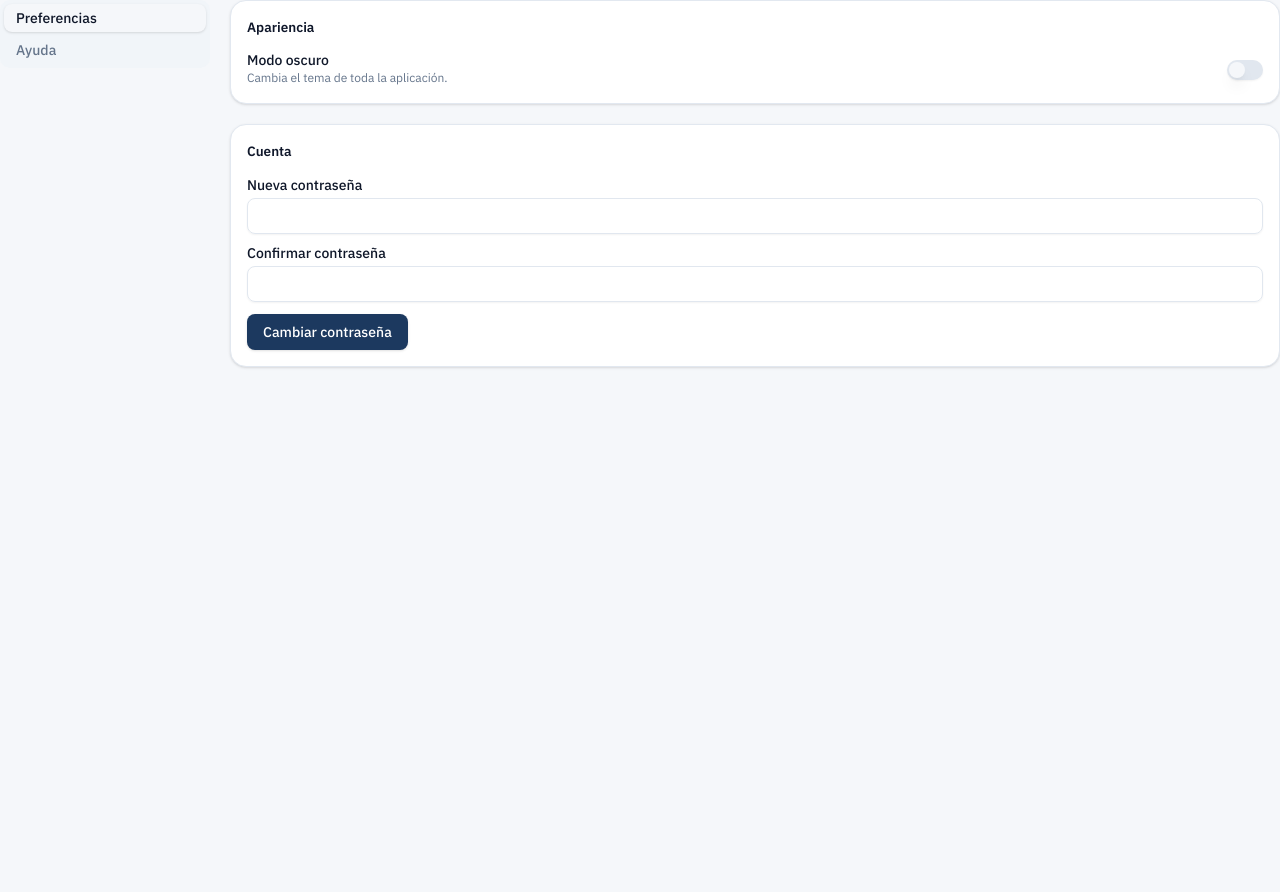
Test case: ConfigView › kam: la pestaña Ayuda le da los cuatro contactos de escalada
Press the mouse on the tab "Ayuda": (105, 50) [4,36,206,64]
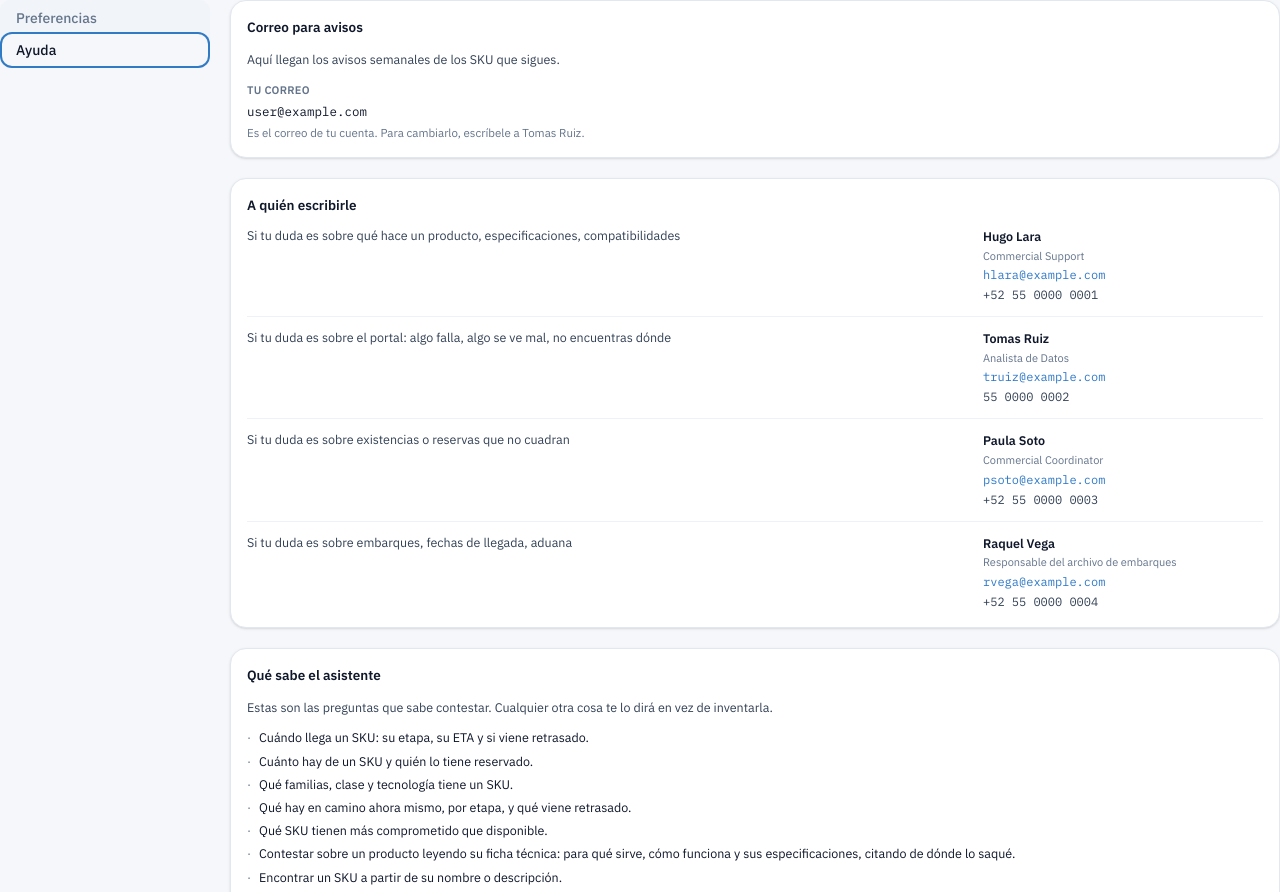
Now the text "Hugo Lara" is shown, box [983,228,1041,244]
Now the text "Tomas Ruiz" is shown, box [983,330,1049,346]
Now the text "Paula Soto" is shown, box [983,432,1045,448]
